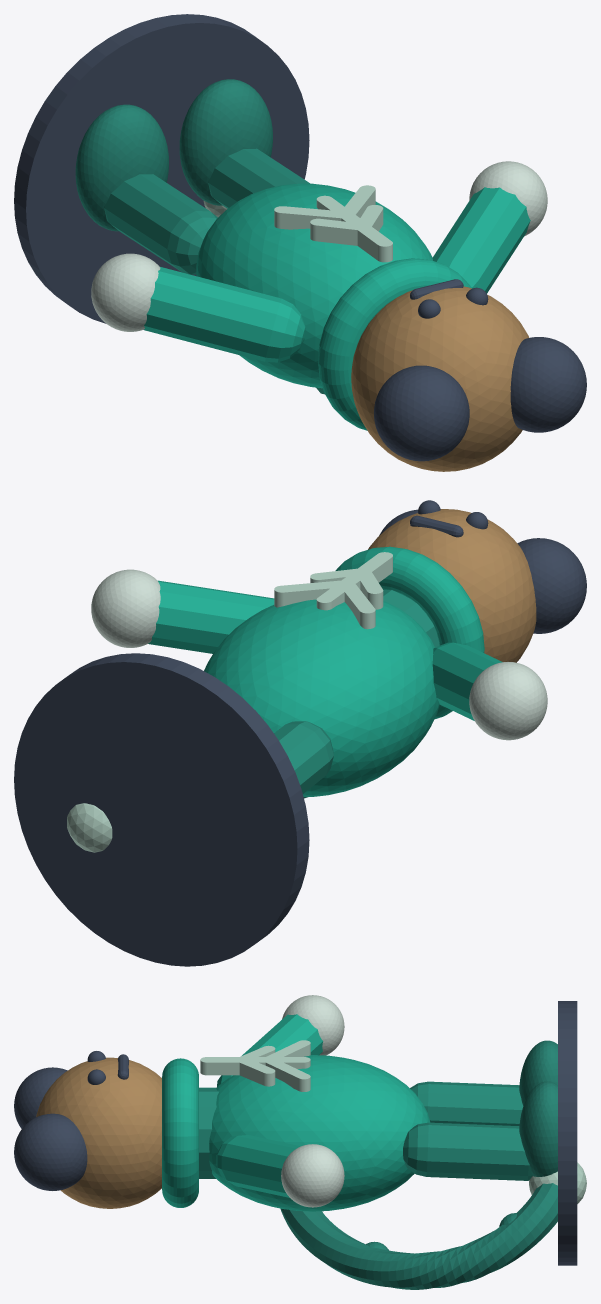
File: neuronaut3d-dendra.glb
The picture shows the model from 3 angles, top to bottom: view 1: azimuth 30°, elevation 25°; view 2: azimuth 150°, elevation 25°; view 3: azimuth 270°, elevation 25°; orthographic projection. The views are drawn at different scales.
Visible parts, largest first — view 1: geometry_0, geometry_12, geometry_5, geometry_6, geometry_11, geometry_13, geometry_2, geometry_4, geometry_1, geometry_8, geometry_14, geometry_18 (+3 smaller); view 2: geometry_0, geometry_5, geometry_12, geometry_11, geometry_8, geometry_7, geometry_9, geometry_13, geometry_18, geometry_6, geometry_1, geometry_23 (+1 smaller); view 3: geometry_5, geometry_12, geometry_19, geometry_3, geometry_0, geometry_11, geometry_14, geometry_1, geometry_8, geometry_18, geometry_9, geometry_4 (+6 smaller).
Part boxes in pixels (x1=…): geometry_0: x1=14, y1=14, x2=309, y2=323; geometry_12: x1=351, y1=286, x2=529, y2=471; geometry_5: x1=196, y1=183, x2=432, y2=388; geometry_6: x1=143, y1=267, x2=305, y2=362; geometry_11: x1=318, y1=258, x2=471, y2=430; geometry_13: x1=374, y1=365, x2=469, y2=461; geometry_2: x1=75, y1=104, x2=168, y2=231; geometry_4: x1=179, y1=79, x2=272, y2=205; geometry_1: x1=104, y1=174, x2=217, y2=274; geometry_8: x1=432, y1=187, x2=530, y2=293; geometry_14: x1=510, y1=337, x2=586, y2=432; geometry_18: x1=274, y1=185, x2=392, y2=262; geometry_0: x1=14, y1=653, x2=309, y2=966; geometry_5: x1=204, y1=599, x2=439, y2=796; geometry_12: x1=368, y1=509, x2=536, y2=662; geometry_11: x1=335, y1=546, x2=484, y2=718; geometry_8: x1=148, y1=580, x2=274, y2=653; geometry_7: x1=469, y1=662, x2=547, y2=740; geometry_9: x1=91, y1=569, x2=160, y2=647; geometry_13: x1=517, y1=538, x2=586, y2=633; geometry_18: x1=274, y1=552, x2=392, y2=629; geometry_6: x1=432, y1=642, x2=502, y2=720; geometry_1: x1=274, y1=721, x2=333, y2=793; geometry_23: x1=67, y1=803, x2=112, y2=852; geometry_5: x1=209, y1=1055, x2=430, y2=1211; geometry_12: x1=36, y1=1057, x2=161, y2=1208; geometry_19: x1=280, y1=1183, x2=557, y2=1289; geometry_3: x1=403, y1=1122, x2=532, y2=1180; geometry_0: x1=558, y1=1001, x2=577, y2=1265; geometry_11: x1=162, y1=1058, x2=198, y2=1207; geometry_14: x1=14, y1=1113, x2=87, y2=1190; geometry_1: x1=410, y1=1081, x2=523, y2=1125; geometry_8: x1=216, y1=1135, x2=300, y2=1197; geometry_18: x1=200, y1=1040, x2=310, y2=1091; geometry_9: x1=281, y1=1144, x2=344, y2=1207; geometry_4: x1=519, y1=1081, x2=557, y2=1176.
Size of the model in its own units: 47.2 by 30 by 65.
